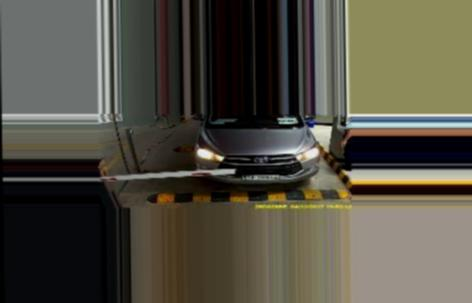License_Plate: (243, 171, 282, 182)
